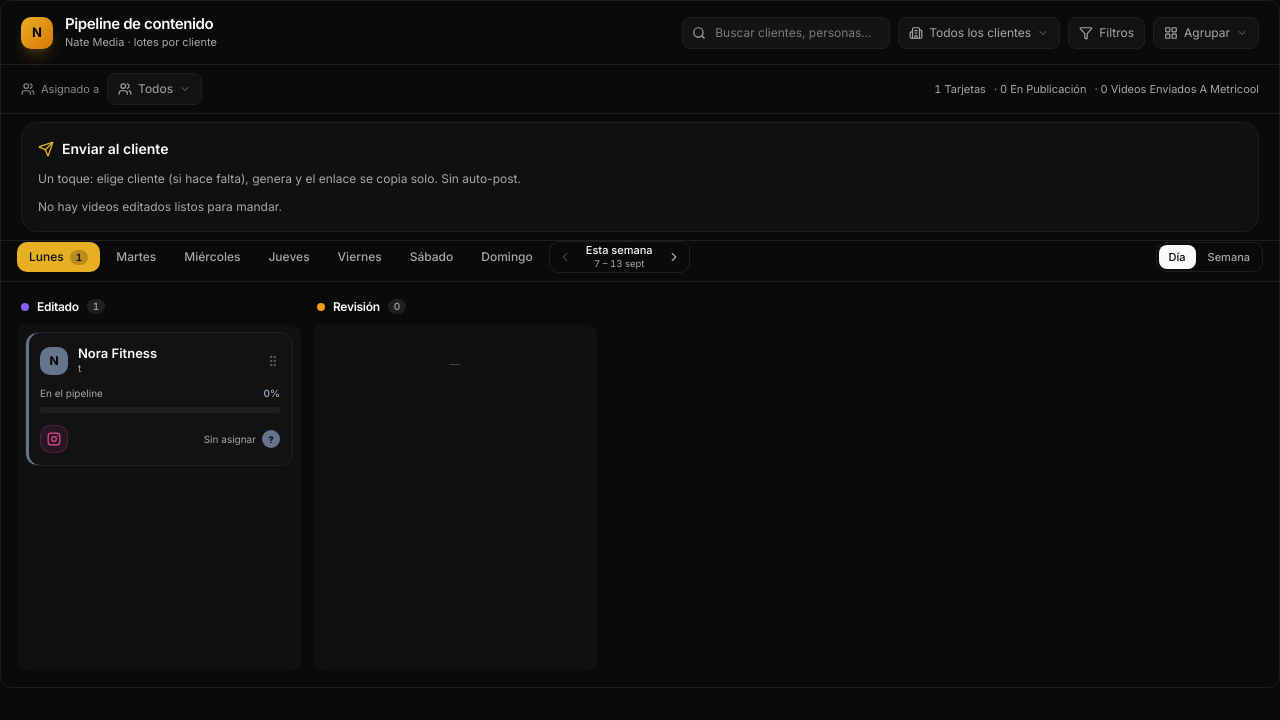
Test: EntregasBoard — vista semana › el conmutador enseña la semana
Click the button "Semana". click: (1229, 257)
box: [1198,245,1260,269]
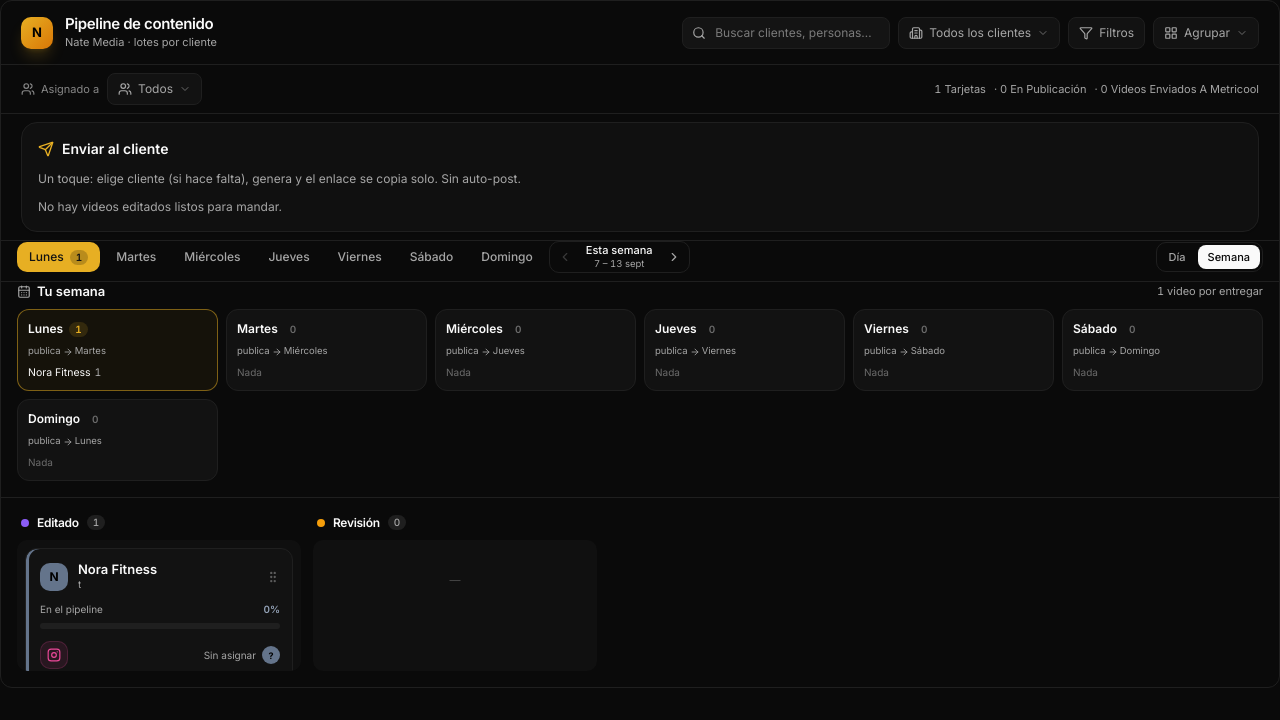
Now the text "Tu semana" is shown, box [37,282,105,301]
